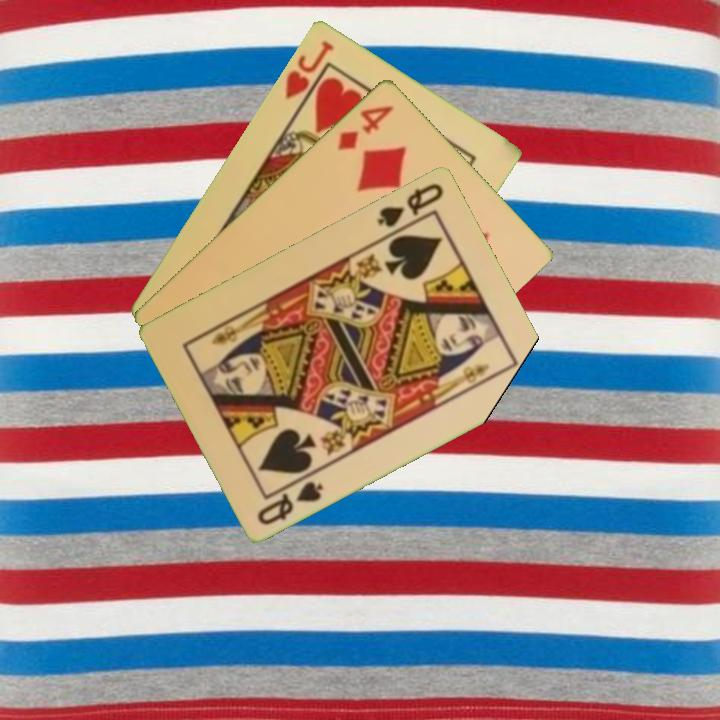4d: (333, 101, 397, 153)
Jh: (281, 36, 337, 114)
Qs: (254, 469, 326, 528), (373, 179, 447, 230)
